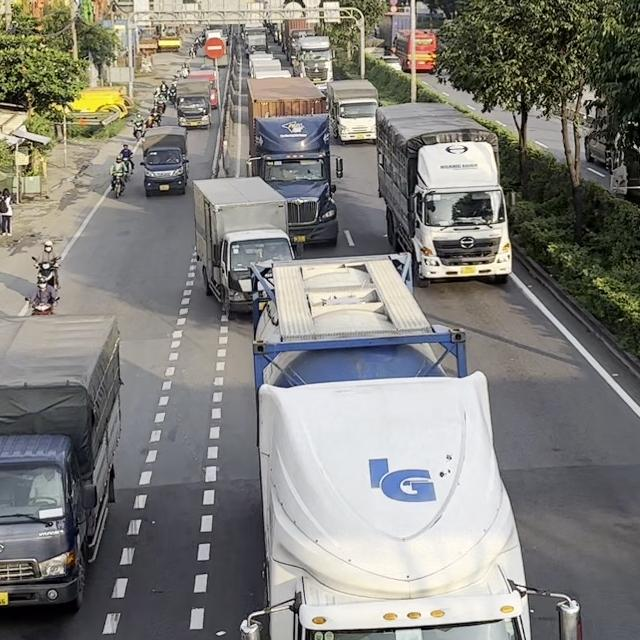motorcycle: (30, 255, 64, 302), (109, 171, 127, 198)
truck: (244, 250, 533, 639), (0, 311, 123, 611), (375, 101, 513, 287), (245, 76, 343, 246), (191, 175, 297, 317), (325, 78, 379, 145), (141, 125, 188, 195), (295, 35, 334, 91), (173, 78, 212, 129)
